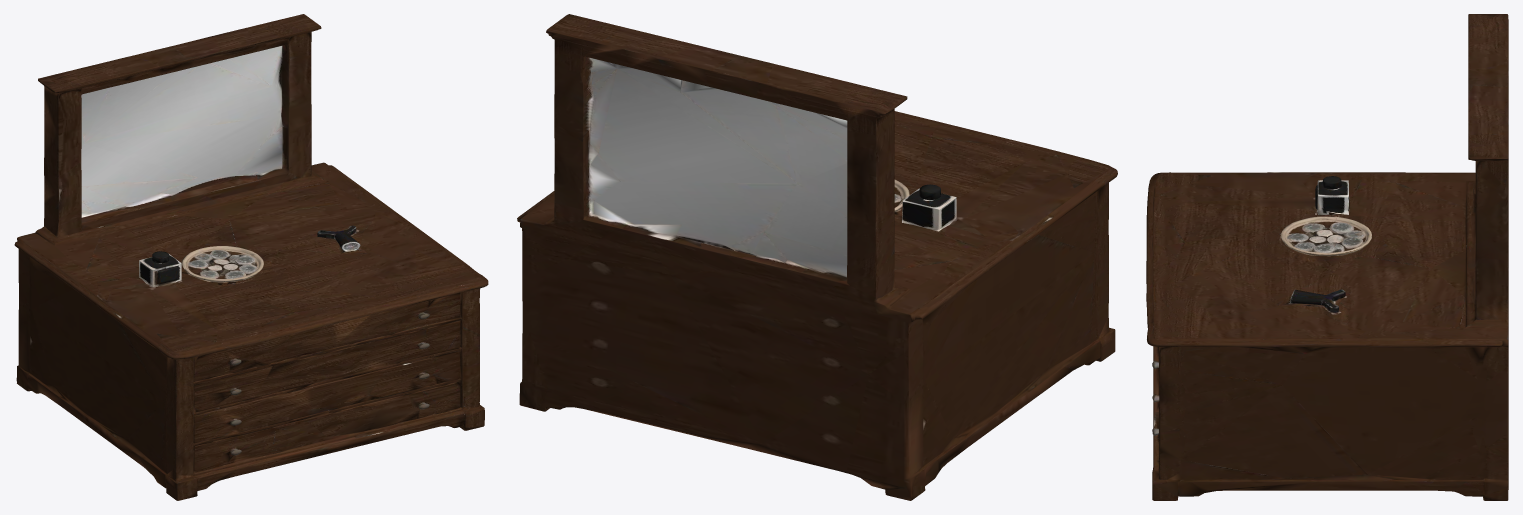
The model's file is mobile.glb.
3 views of the same model, side by side, from view 1: azimuth 30°, elevation 25°; view 2: azimuth 150°, elevation 25°; view 3: azimuth 270°, elevation 25° (orthographic). The views are drawn at different scales.
Visible parts, largest first — view 1: d-dresser; view 2: d-dresser; view 3: d-dresser.
Boxes of the visible parts, x1,y1,x2,y2 form: d-dresser: (14,14,488,500); d-dresser: (517,14,1117,500); d-dresser: (1146,14,1508,500).
Size of the model in its own units: 0.9997 by 0.9001 by 0.8885.
Materials: 1 (1 with a texture image).
